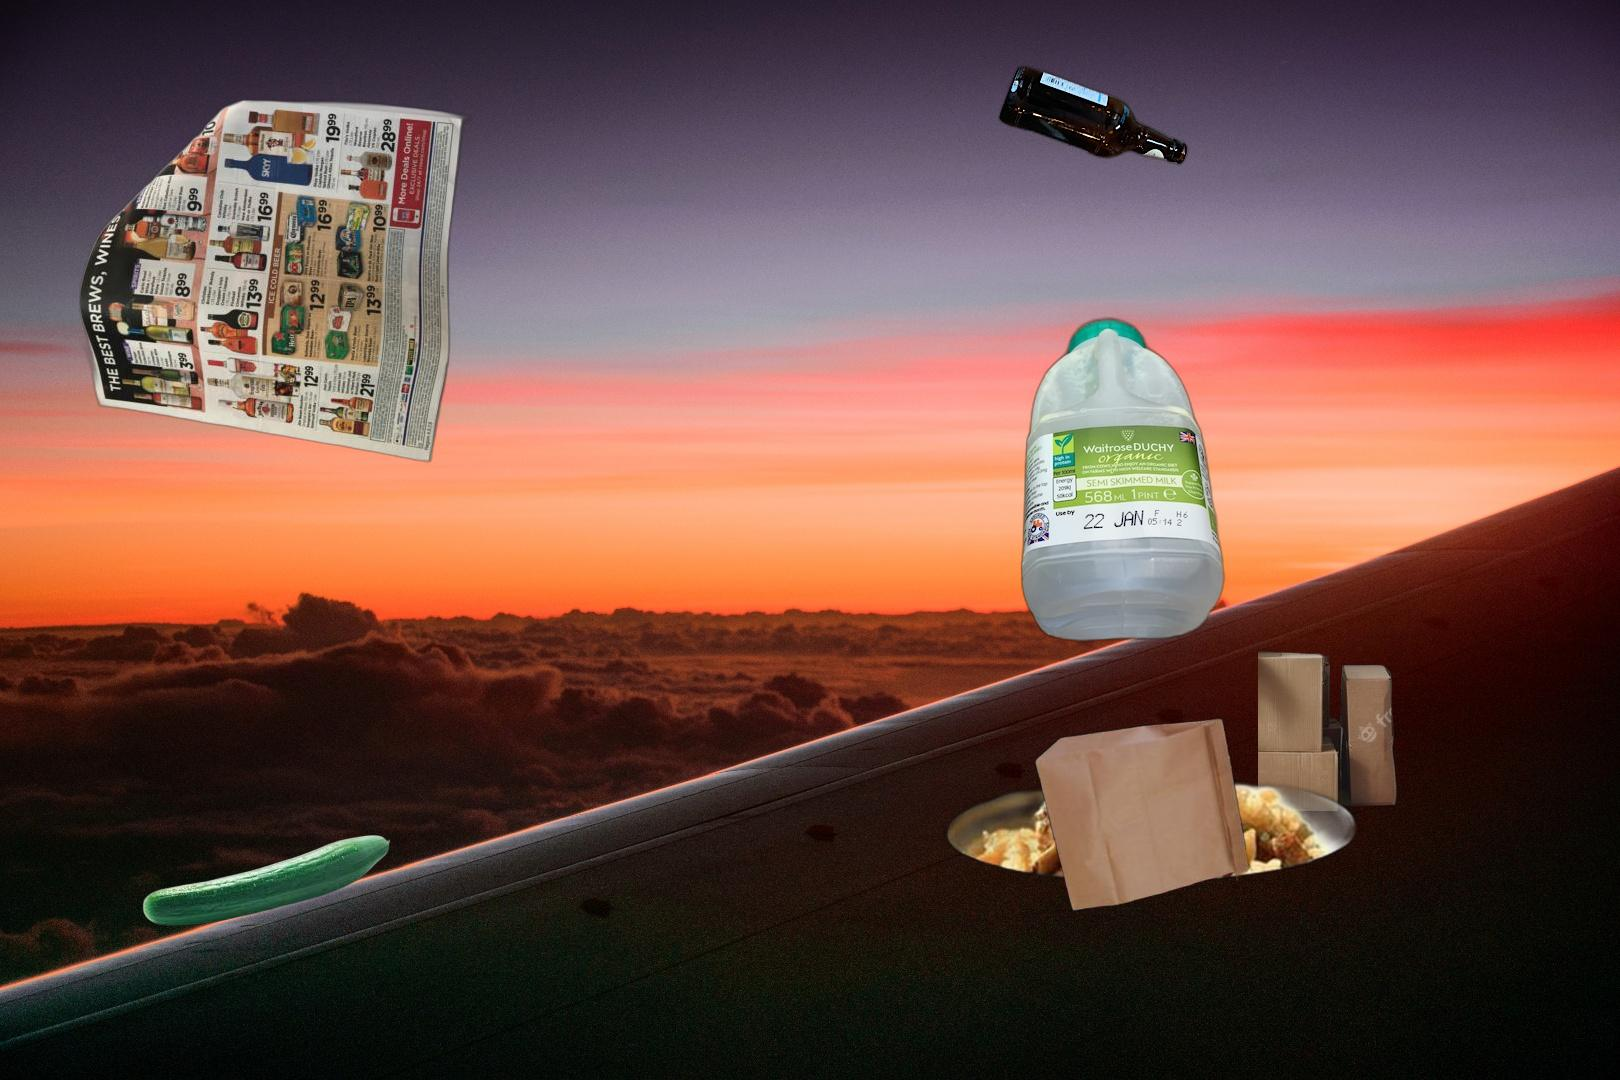biological: (937, 757, 1370, 885), (140, 832, 392, 929)
glass: (994, 60, 1192, 170)
paper: (80, 96, 475, 465)
paper-bag: (1032, 716, 1252, 912)
plastic-bottles: (1019, 313, 1228, 647)
trashbox-cardboard: (1258, 630, 1399, 814)
